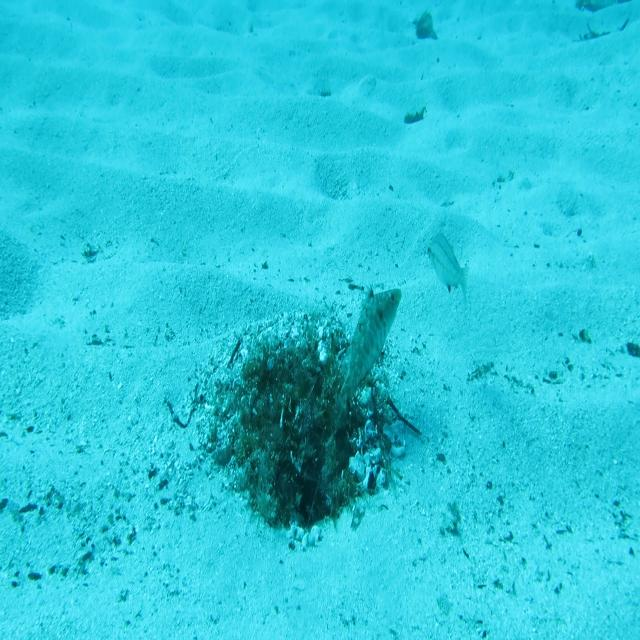MAF: (327, 282, 403, 438)
core_nest: (269, 367, 321, 399)
female: (426, 230, 472, 312)
nest: (190, 295, 410, 553)
vegetation: (402, 108, 426, 126)
